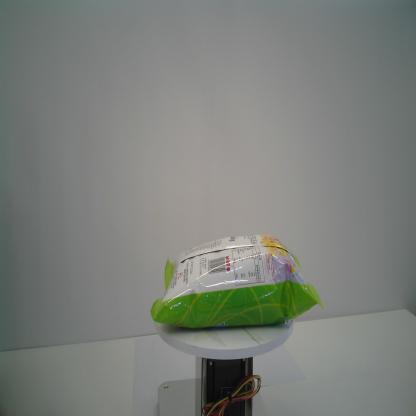Puffed Food: (150, 232, 324, 329)
